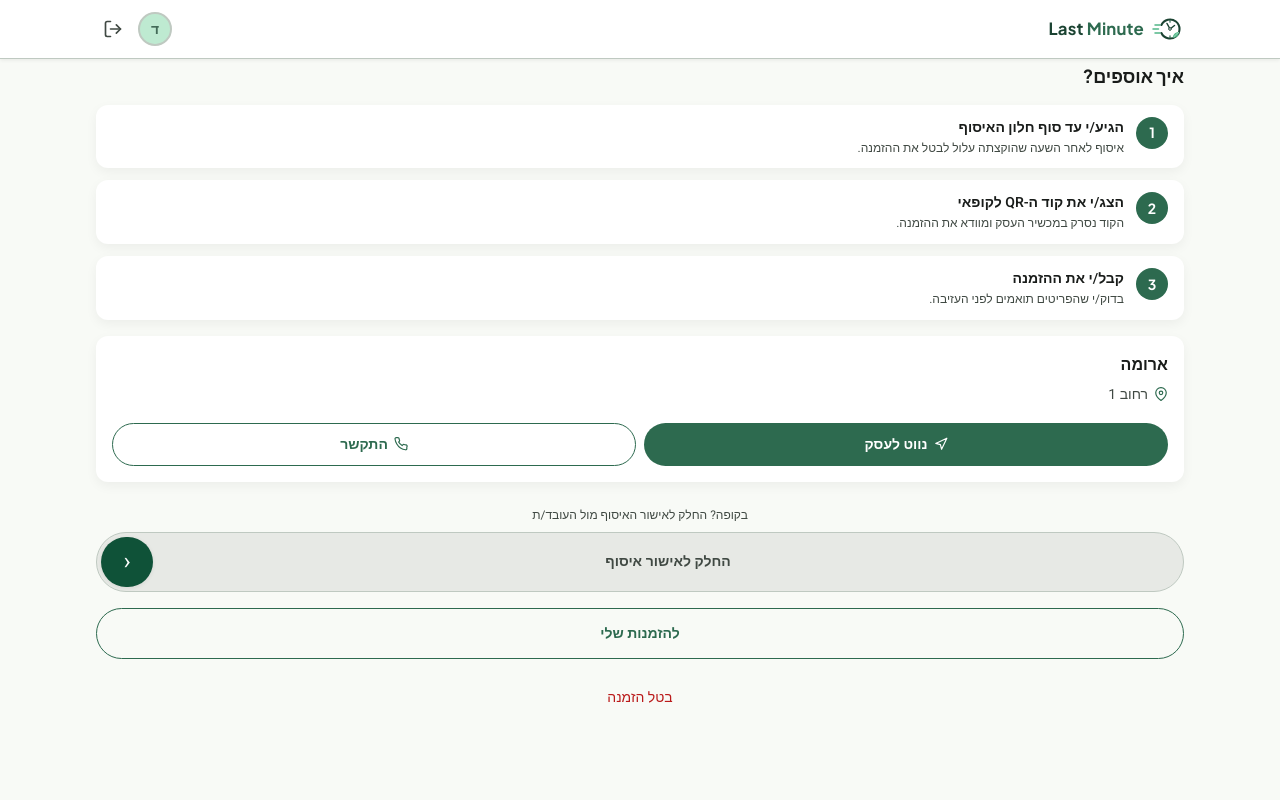
it: Confirmation flow (Click & Collect) › cancels the order (before the pickup window) and restores stock
(page scrolled)
Click the button "בטל הזמנה".
click(640, 698)  # box [96,675,1184,720]
(page scrolled)
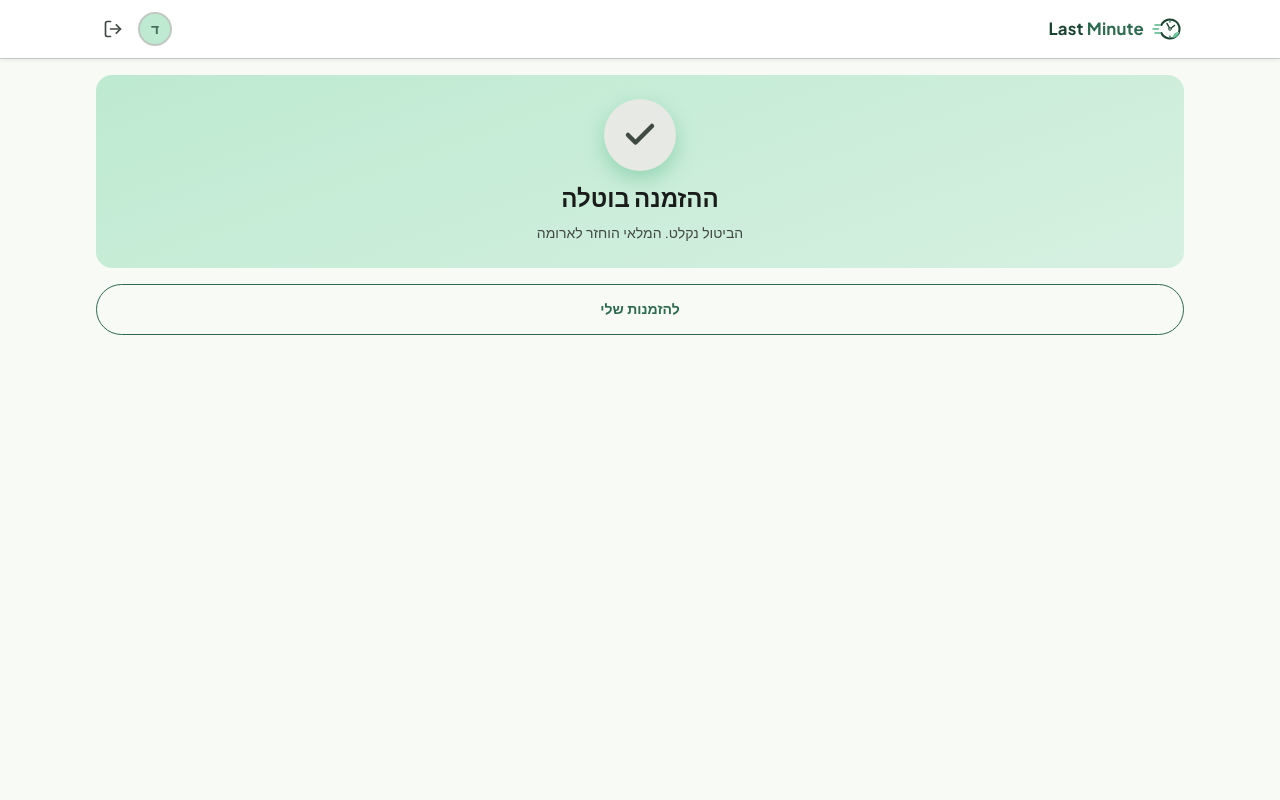
Now the heading "ההזמנה בוטלה" is shown, box [561,179,719,215]
